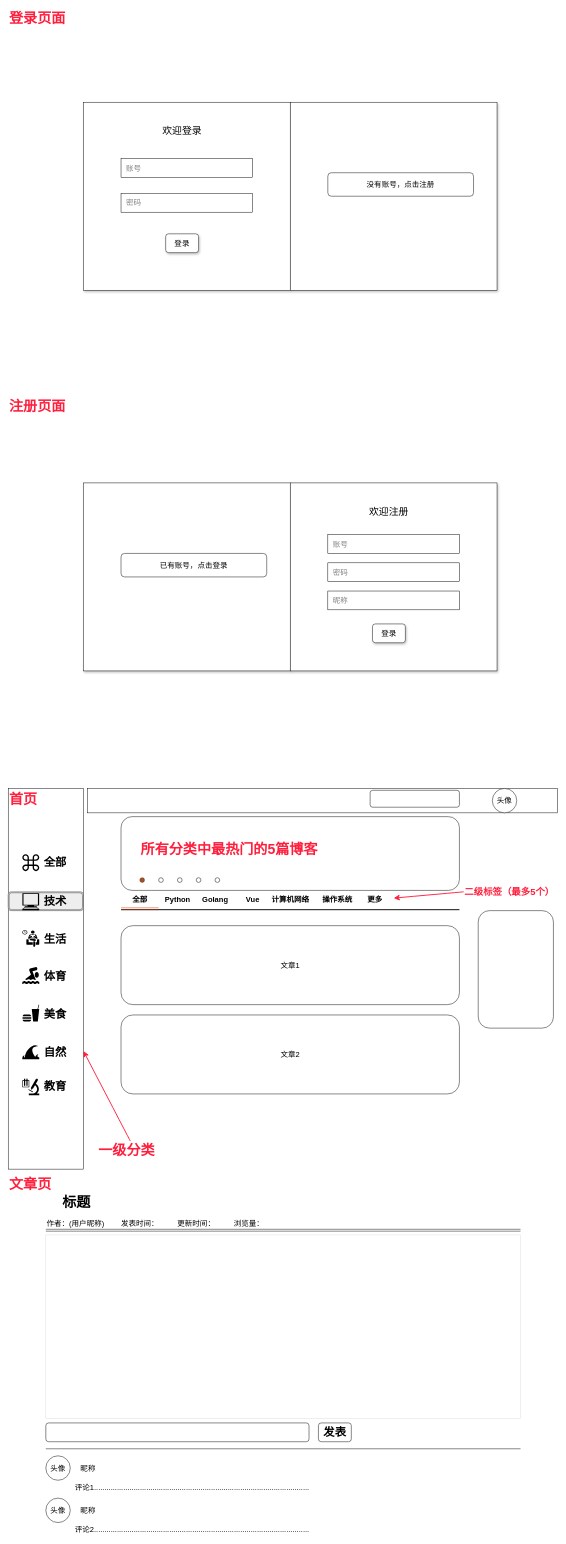
The diagram is 566 pixels wide and 1544 high, and some of its shapes have lost their labels. The centre of each missing label's shape, as x and y in pixels:
Search: the point at 414,798
内容: the point at 283,1326
统计信息 文章数： 分类数： 评论数：: the point at 515,969
评论: the point at 177,1432
